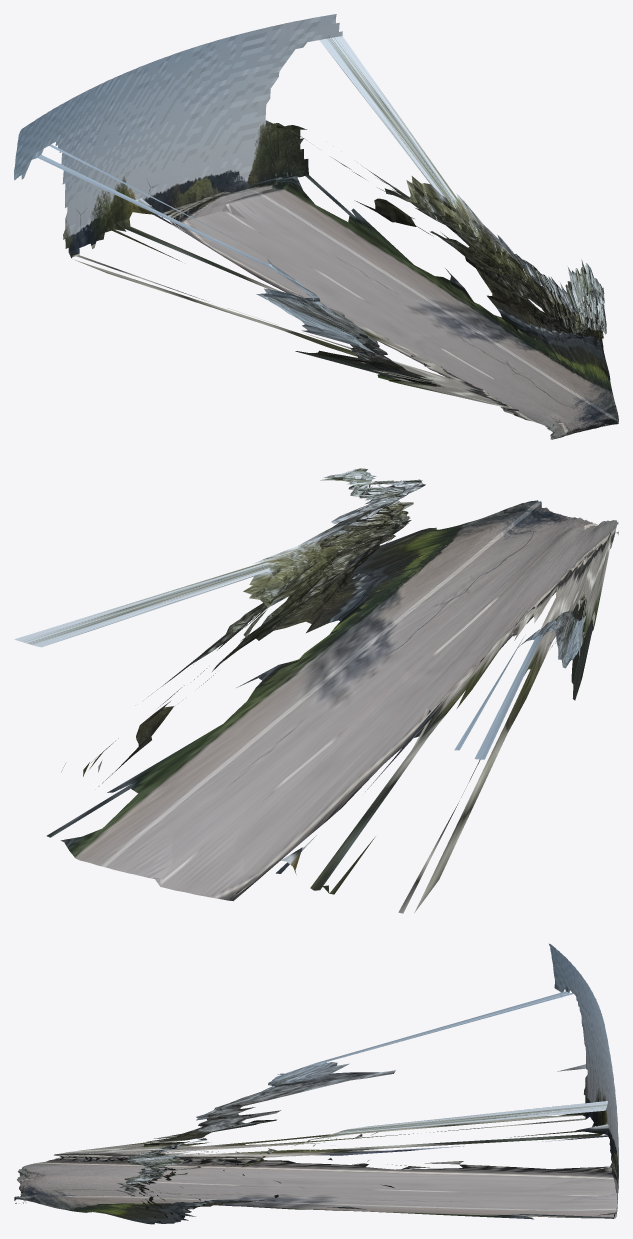
3 views of the same model, one above another, from view 1: azimuth 30°, elevation 25°; view 2: azimuth 150°, elevation 25°; view 3: azimuth 270°, elevation 25° (orthographic). The views are drawn at different scales.
Parts seen in each view (by area): view 1: defaultobject; view 2: defaultobject; view 3: defaultobject.
Boxes of the visible parts, bbox=[...] form: defaultobject: bbox=[14, 14, 618, 439]; defaultobject: bbox=[14, 468, 618, 913]; defaultobject: bbox=[14, 943, 618, 1224].
Bounding box in the file's own units: 27.59 × 12.95 × 44.52.
Materials: 1 (1 with a texture image).
